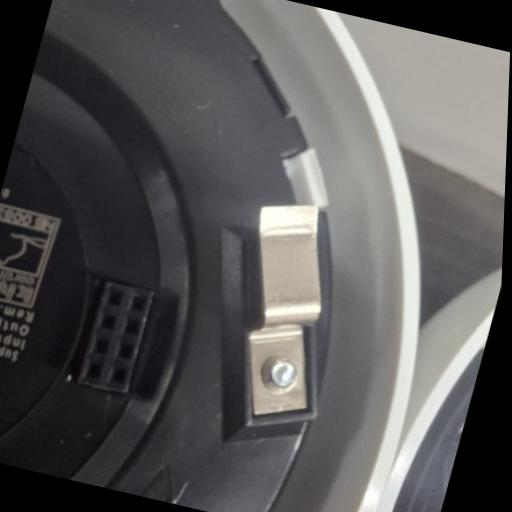yaysiz: (205, 192, 366, 430)
